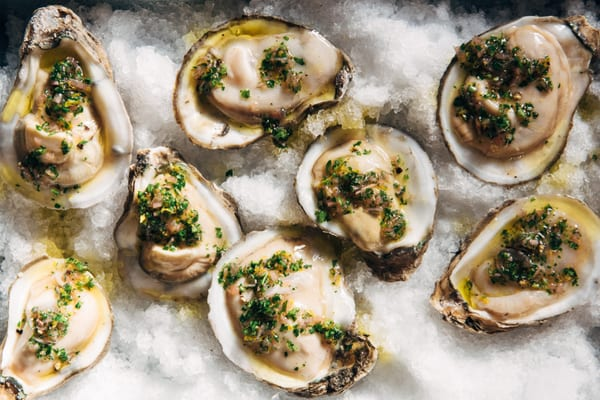curry: (130, 145, 242, 283), (237, 294, 377, 395)
